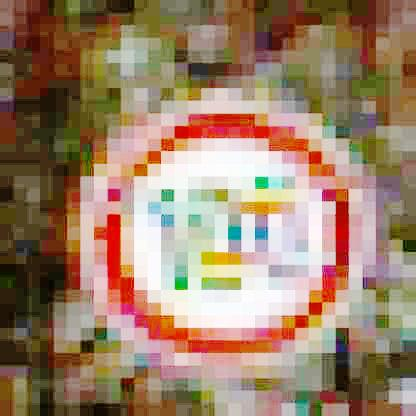Speed Limit -100-: (81, 90, 370, 369)
